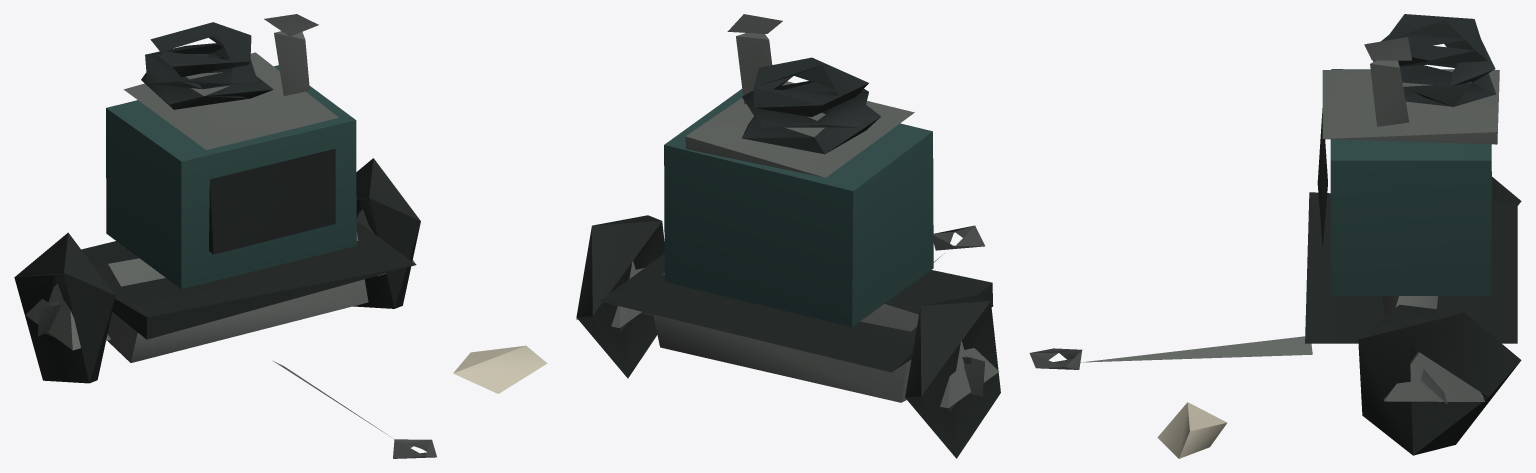
The model's file is compressor_cart_a_lod2.glb.
3 views of the same model, side by side, from view 1: azimuth 30°, elevation 25°; view 2: azimuth 150°, elevation 25°; view 3: azimuth 270°, elevation 25° (orthographic). The views are drawn at different scales.
Visible parts, largest first — view 1: Surface.001; view 2: Surface.001; view 3: Surface.001.
Boxes of the visible parts, x1=… form: Surface.001: x1=14, y1=14, x2=547, y2=458; Surface.001: x1=576, y1=14, x2=1000, y2=458; Surface.001: x1=1029, y1=14, x2=1521, y2=458.
Bounding box in the file's own units: 3.26 × 2.63 × 3.33.
